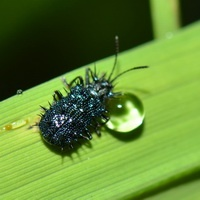insect: (0, 47, 147, 150), (38, 36, 147, 150)
